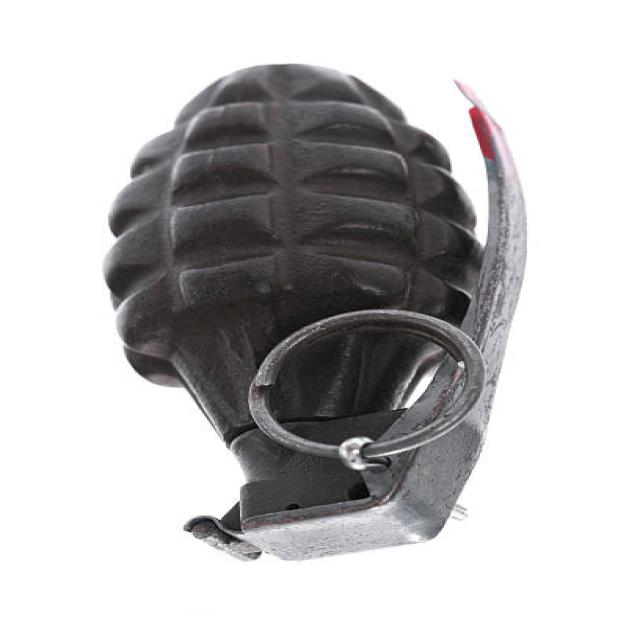grenade: (92, 62, 550, 576)
